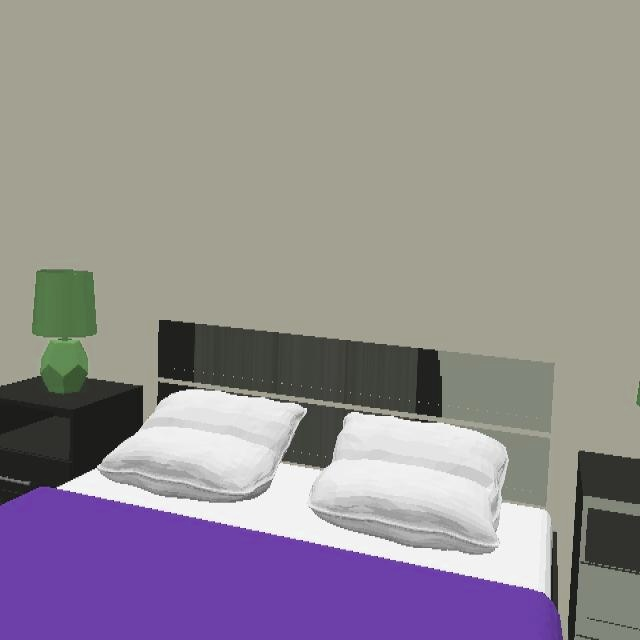bed: (0, 321, 564, 640)
lamp: (31, 269, 99, 397)
nighttable: (0, 377, 144, 507), (566, 451, 640, 640)
pillow: (308, 412, 510, 556), (96, 389, 308, 503)
